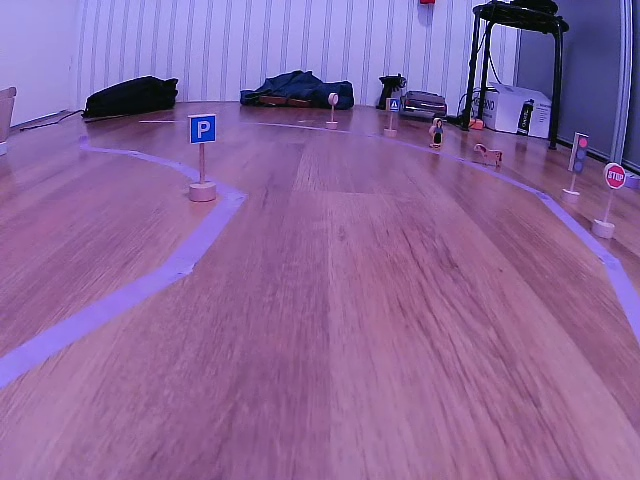mens: (428, 118, 445, 150)
paard: (472, 142, 506, 170)
parkeerbord: (187, 114, 217, 147)
roodlicht: (572, 131, 588, 175)
stopbord: (604, 161, 626, 191)
zebrapad: (387, 98, 399, 111)
